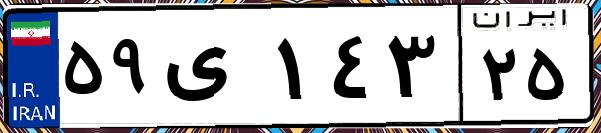1: (270, 28, 330, 110)
2: (475, 38, 525, 113)
3: (385, 28, 445, 110)
4: (330, 28, 385, 110)
5: (57, 26, 110, 100), (525, 38, 570, 115)
9: (110, 28, 158, 98)
ی: (158, 20, 270, 120)
